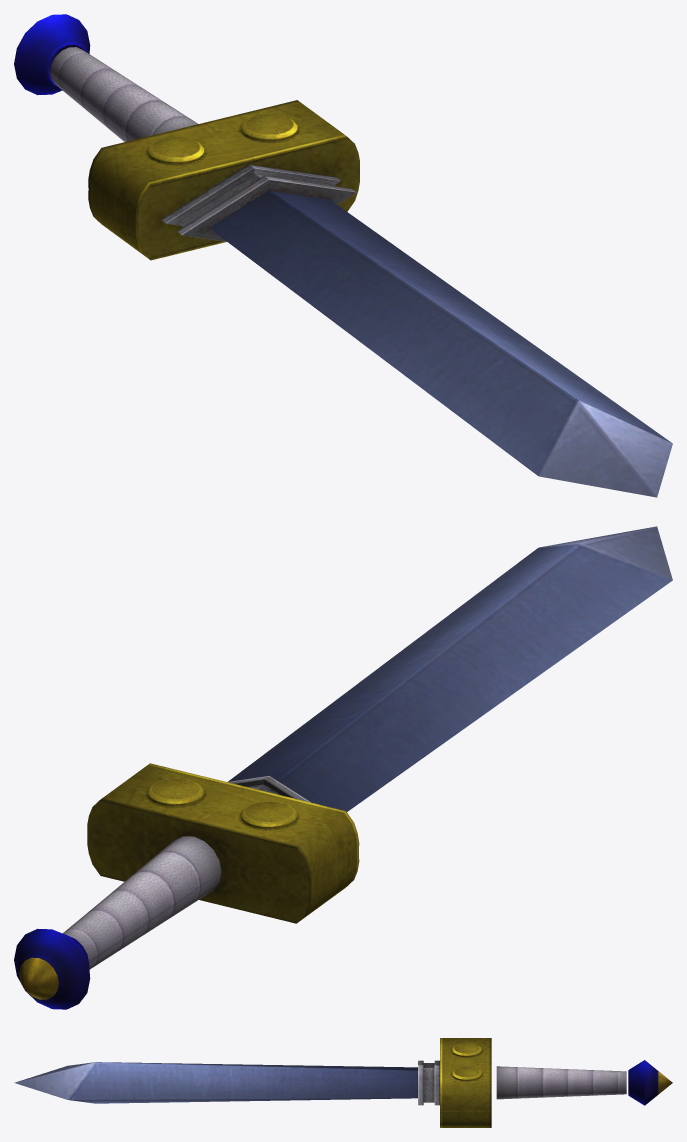
The model's file is sword.obj.
3 renders of one model, top to bottom at view 1: azimuth 30°, elevation 25°; view 2: azimuth 150°, elevation 25°; view 3: azimuth 270°, elevation 25°, orthographic. The views are drawn at different scales.
Parts seen in each view (by area): view 1: model:Mesh2; view 2: model:Mesh2; view 3: model:Mesh2.
Part boxes in pixels (x1,y1,x2,y2): model:Mesh2: (14, 14, 672, 497); model:Mesh2: (14, 526, 672, 1009); model:Mesh2: (14, 1038, 672, 1127).
Bounding box in the file's own units: 2.07 × 0.779 × 10.18.
1 material, 1 textured.
